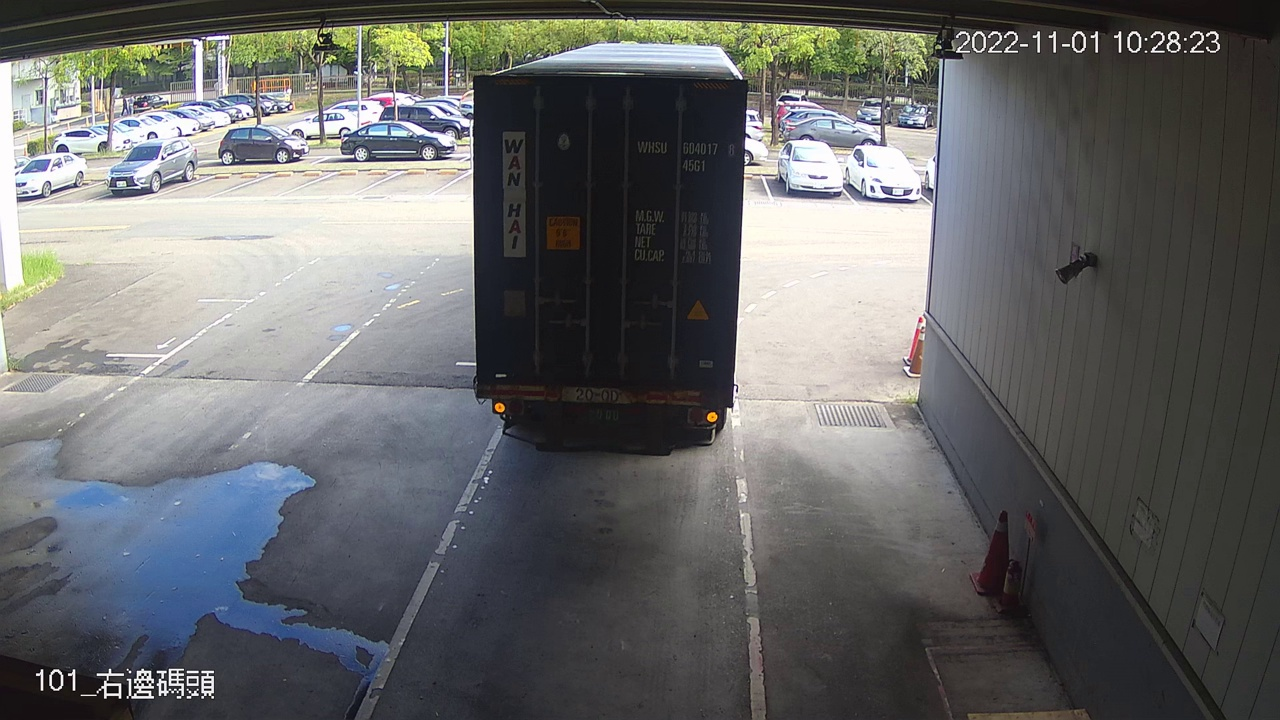container: (632, 133, 738, 178)
